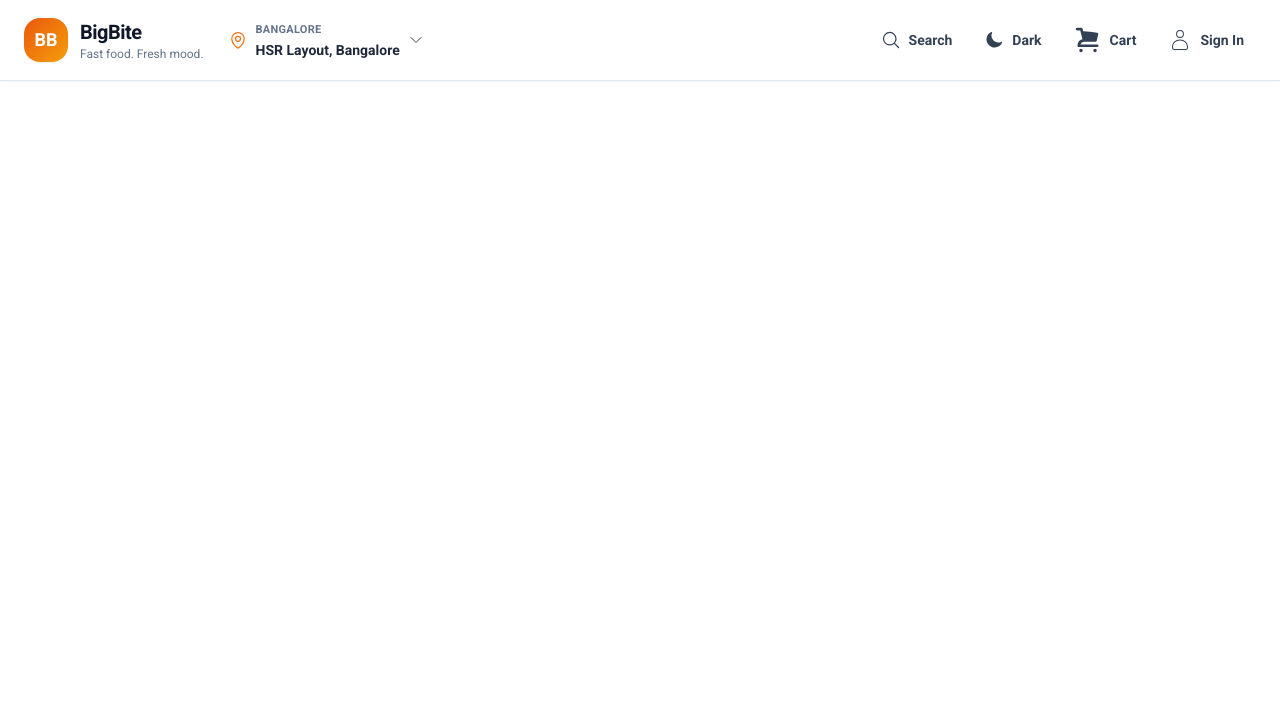
it: Header Component › renders login panel when sign in is clicked
Click the button "Sign In". click: point(1206, 40)
box: 1156,20 -> 1256,60
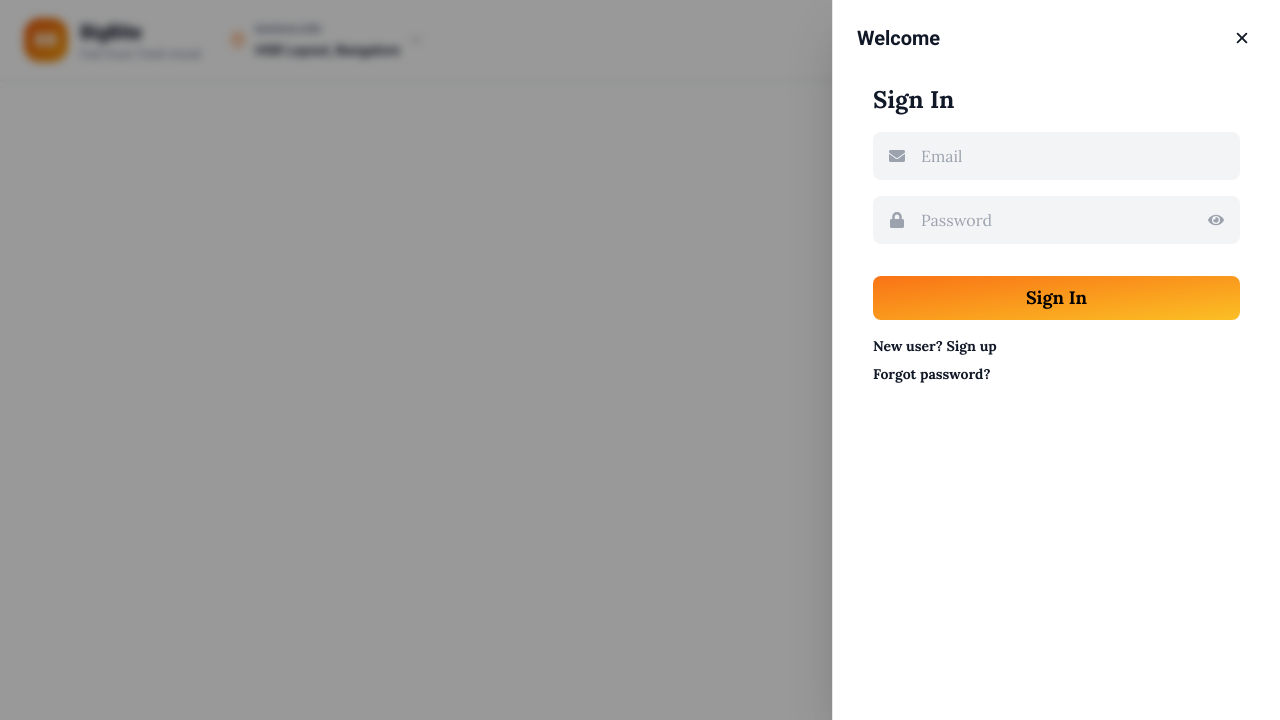
Expected: the element with test id "auth-panel" is shown
Expected: the heading "Welcome" is shown, 857,24 -> 940,52
